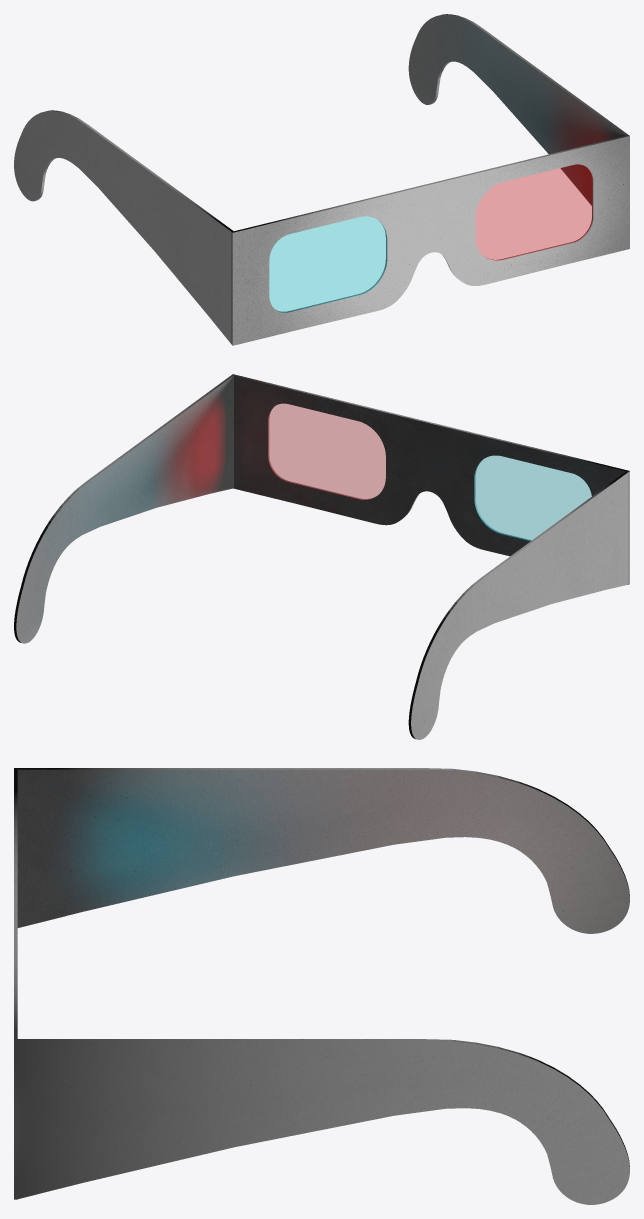
Rendered from new_3d-anaglyph_v17.gltf.
The picture shows the model from 3 angles, top to bottom: view 1: azimuth 30°, elevation 25°; view 2: azimuth 150°, elevation 25°; view 3: azimuth 270°, elevation 25°; orthographic projection. The views are drawn at different scales.
Parts seen in each view (by area): view 1: glasses, cyan, magenta; view 2: glasses, magenta, cyan; view 3: glasses.
Part boxes in pixels (box(x1,y1,x2,y2)): glasses: box(14, 14, 629, 345); cyan: box(269, 216, 386, 311); magenta: box(476, 164, 592, 259); glasses: box(14, 374, 629, 739); magenta: box(269, 404, 385, 499); cyan: box(475, 456, 591, 540); glasses: box(14, 768, 629, 1204).
Bounding box in the file's own units: 5.05 × 1.42 × 4.83.
3 materials, 1 textured.
